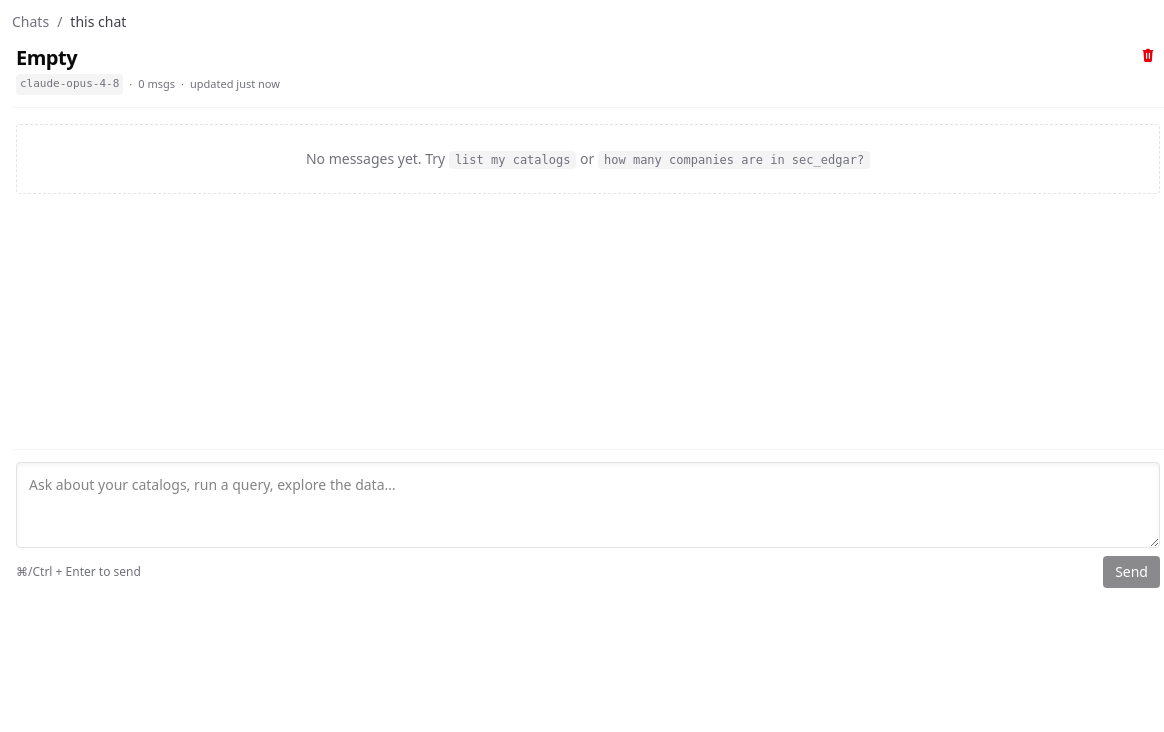
ChatDetail › 503 anthropic_not_configured surfaces a friendly error
expect the button with test id "send-button" is shown: met, box [1103, 556, 1160, 588]
Type "hi" into the text box with test id "message-input" at (588, 505), box [16, 462, 1160, 548]
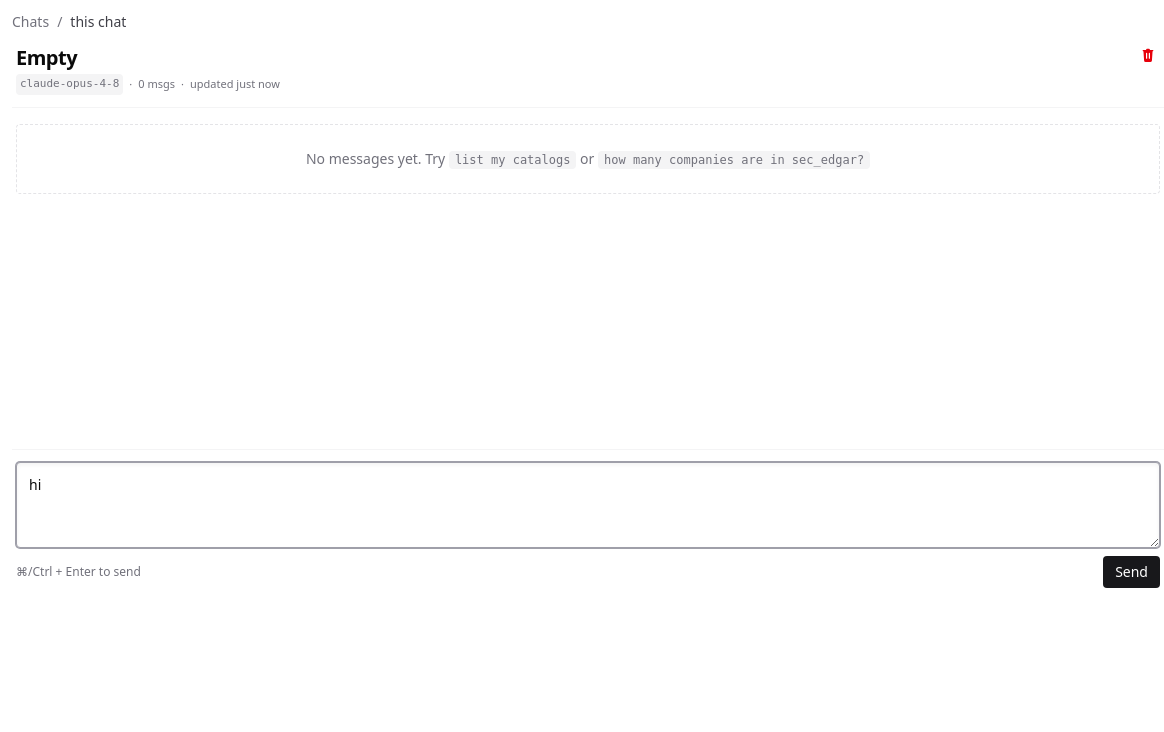
Click the button with test id "send-button" at (1132, 572), box [1103, 556, 1160, 588]
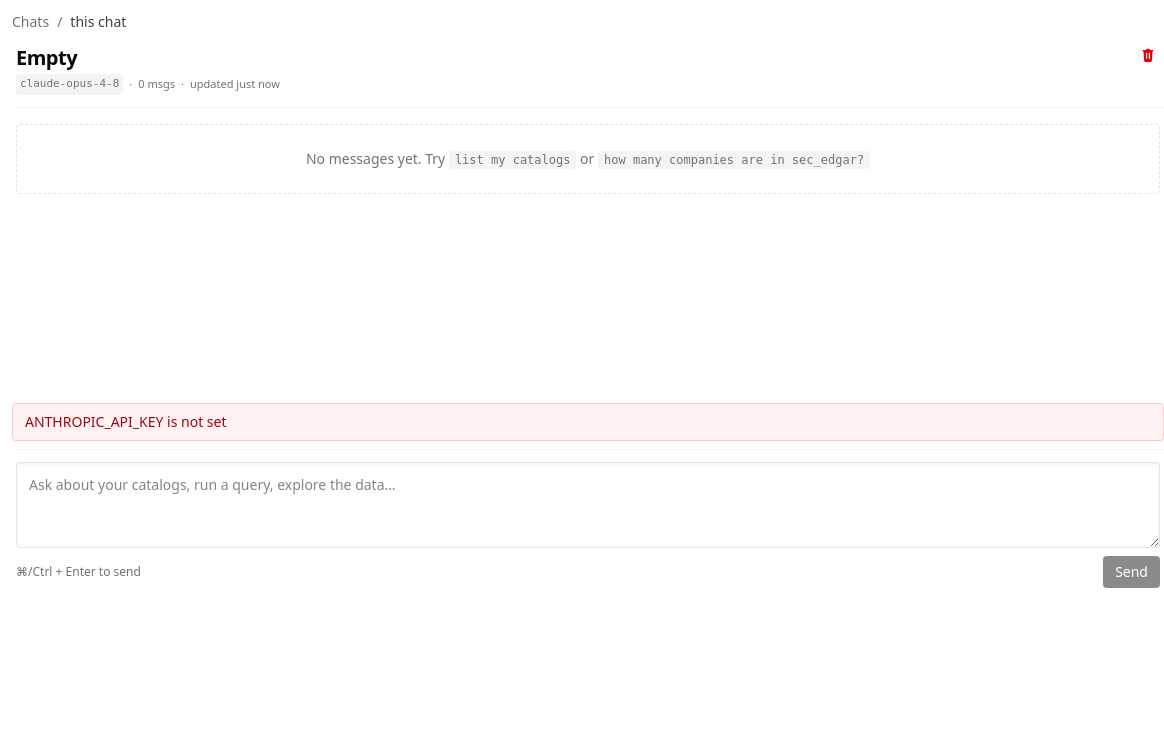
expect the text with test id "send-error" shows "ANTHROPIC_API_KEY": met, box [25, 412, 226, 431]
